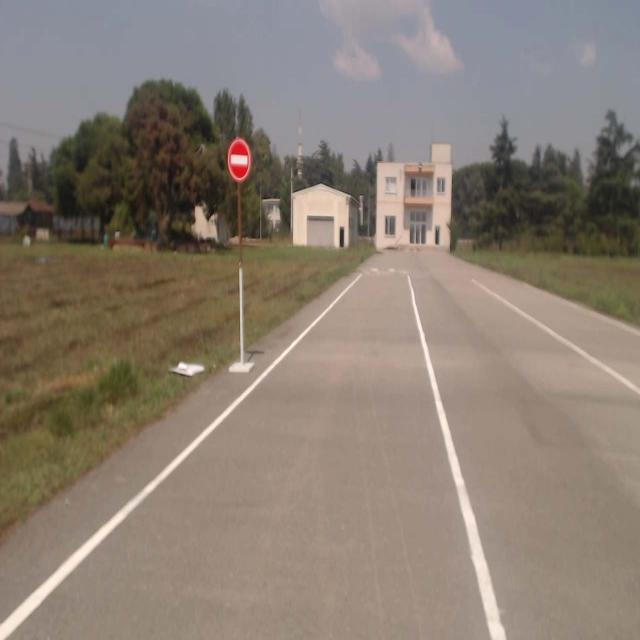girisyok: (228, 140, 250, 180)
